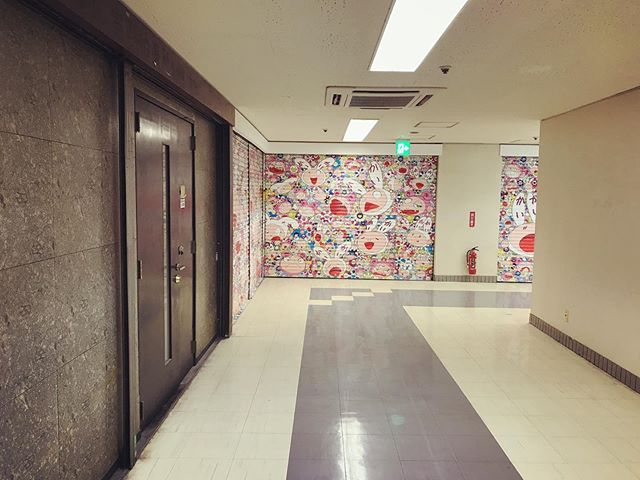door: (135, 100, 200, 428)
graffiti: (232, 140, 442, 303), (500, 145, 537, 294)
